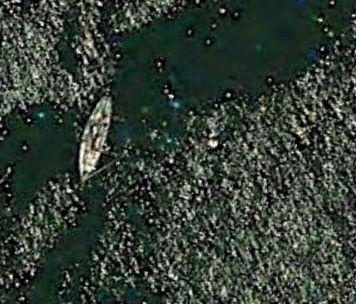Ships: (75, 86, 126, 178)
